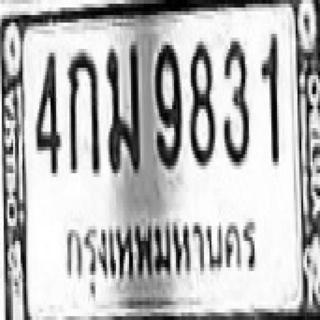A01: (66, 49, 100, 175)
A33: (105, 41, 141, 175)
N01: (259, 32, 278, 164)
N03: (221, 38, 249, 162)
N04: (34, 49, 60, 173)
N08: (189, 38, 213, 162)
N09: (153, 41, 182, 170)
P04: (60, 199, 257, 300)
